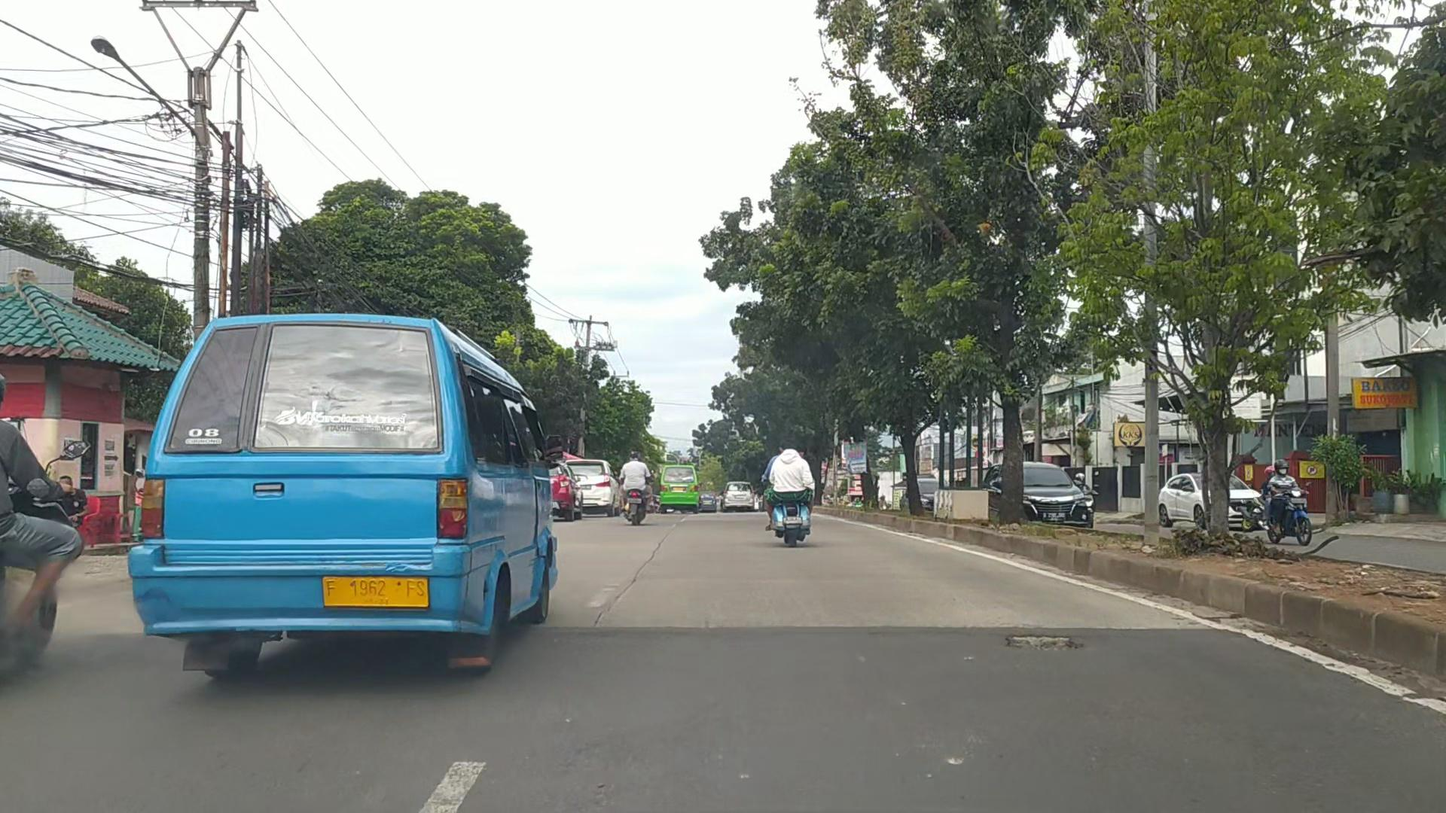pothole: (1005, 634, 1087, 652)
